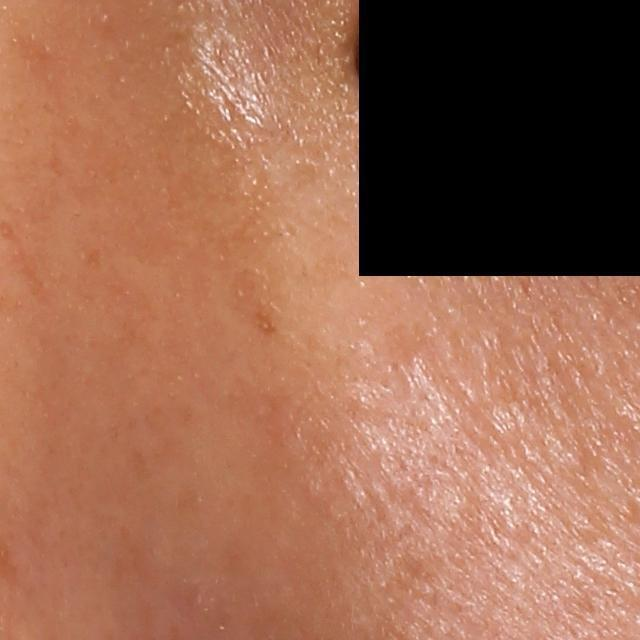melasma: (223, 261, 283, 340)
